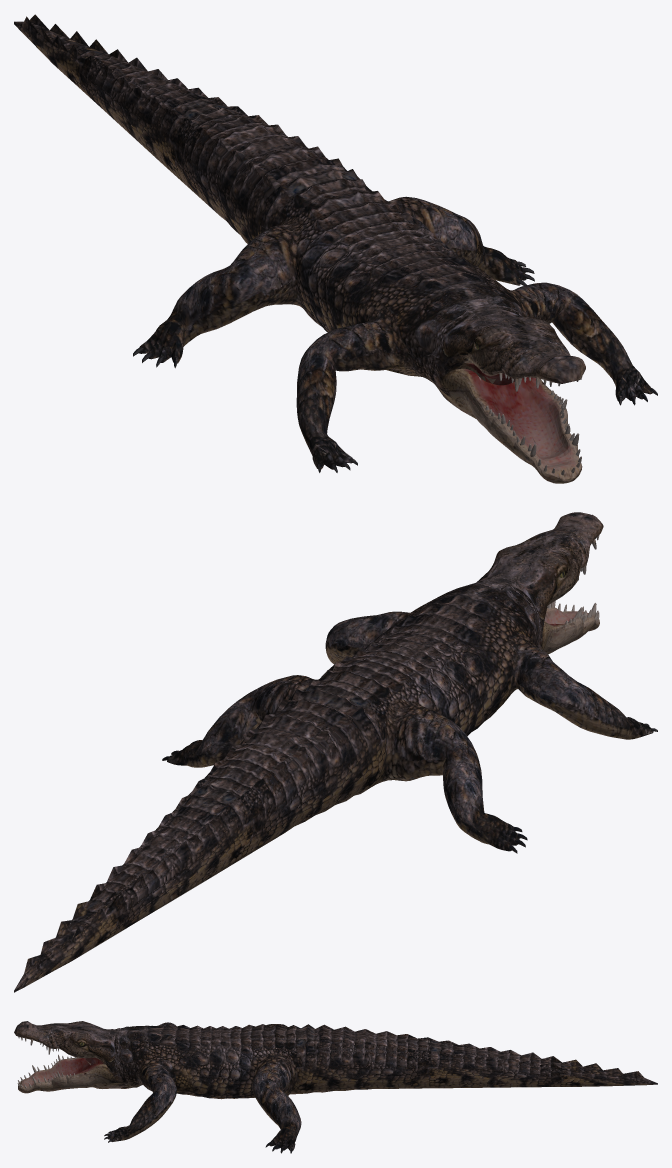
File: caiman.obj
3 renders of one model, top to bottom at view 1: azimuth 30°, elevation 25°; view 2: azimuth 150°, elevation 25°; view 3: azimuth 270°, elevation 25°, orthographic. The views are drawn at different scales.
Parts seen in each view (by area): view 1: crocodile_25659FBXASC046Shape; view 2: crocodile_25659FBXASC046Shape; view 3: crocodile_25659FBXASC046Shape.
Boxes of the visible parts, bbox=[...] form: crocodile_25659FBXASC046Shape: bbox=[14, 14, 657, 483]; crocodile_25659FBXASC046Shape: bbox=[14, 512, 657, 992]; crocodile_25659FBXASC046Shape: bbox=[14, 1021, 657, 1153].
Size of the model in its own units: 3.65 by 1.24 by 9.63.
1 material, 1 textured.
